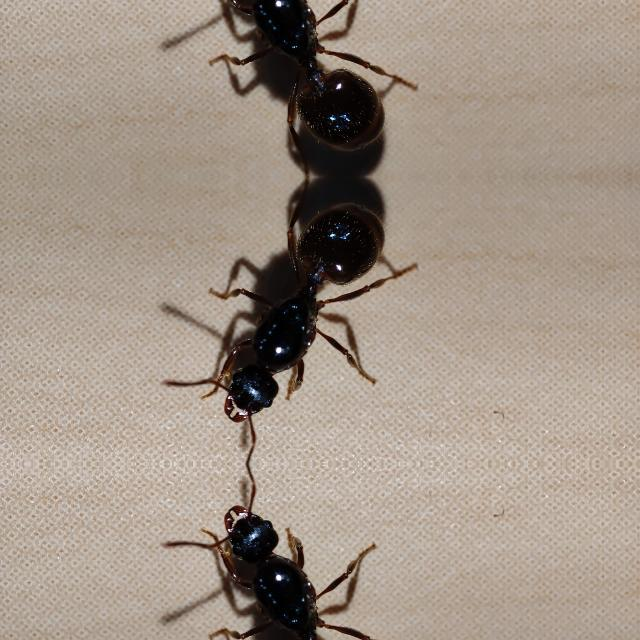Apheanogaster: (168, 180, 428, 424), (168, 0, 426, 172), (168, 502, 426, 640)
